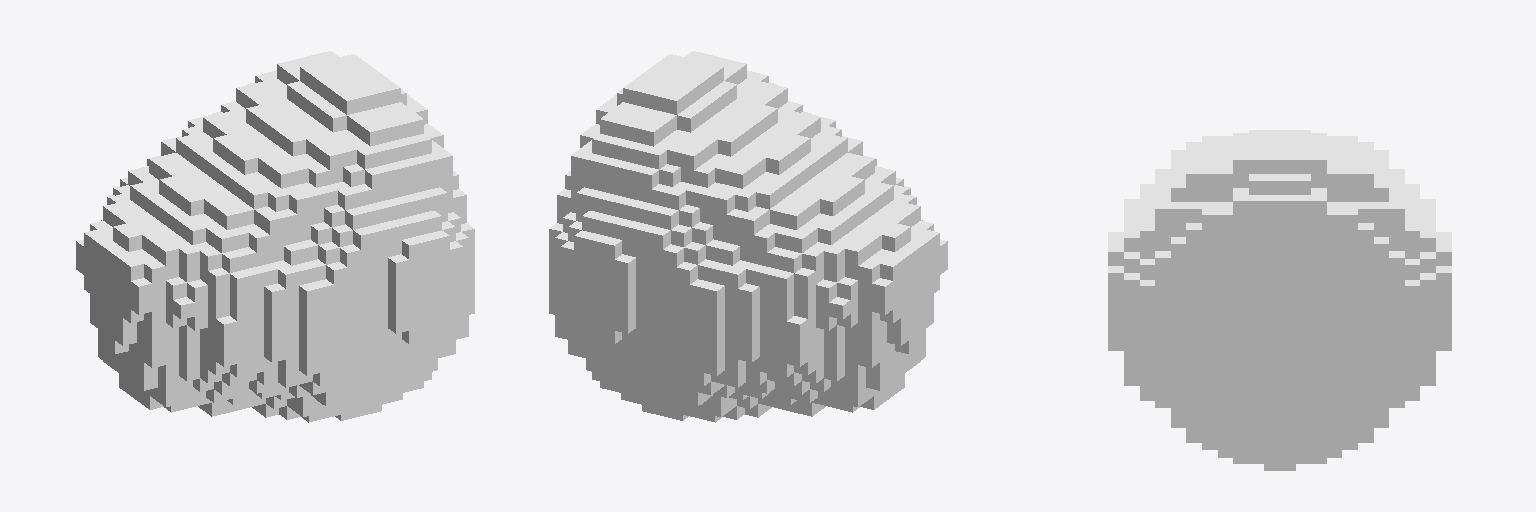
The model's file is snake22_head.obj.
3 views of the same model, side by side, from view 1: azimuth 30°, elevation 25°; view 2: azimuth 150°, elevation 25°; view 3: azimuth 270°, elevation 25° (orthographic).
Visible parts, largest first — view 1: object 1; view 2: object 1; view 3: object 1.
Part boxes in pixels (x1,y1,x2,y2): object 1: (76, 51, 474, 422); object 1: (549, 51, 947, 422); object 1: (1108, 130, 1451, 470).
Bounding box in the file's own units: 2.2 × 2.2 × 2.2.